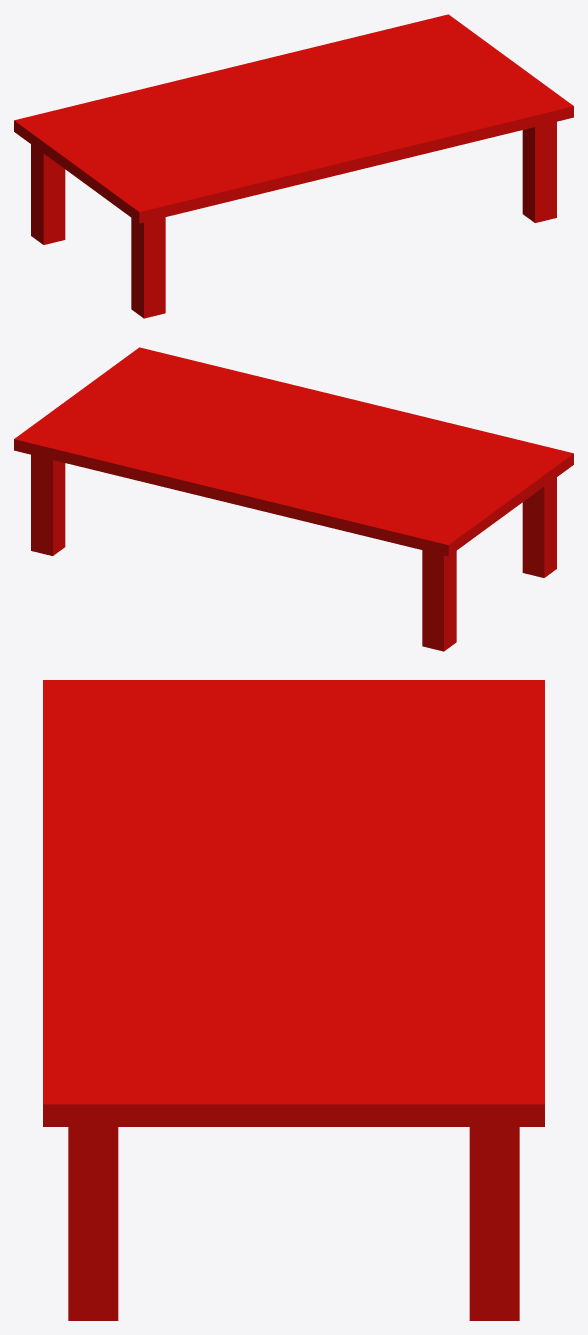
The model's file is desk.fbx.
The picture shows the model from 3 angles, top to bottom: view 1: azimuth 30°, elevation 25°; view 2: azimuth 150°, elevation 25°; view 3: azimuth 270°, elevation 25°; orthographic projection. The views are drawn at different scales.
Visible parts, largest first — view 1: desk; view 2: desk; view 3: desk.
Boxes of the visible parts, box(x1,y1,x2,y2) form: desk: box(14, 14, 573, 318); desk: box(14, 347, 573, 651); desk: box(43, 680, 544, 1320).
Bounding box in the file's own units: 400 × 100 × 200.
